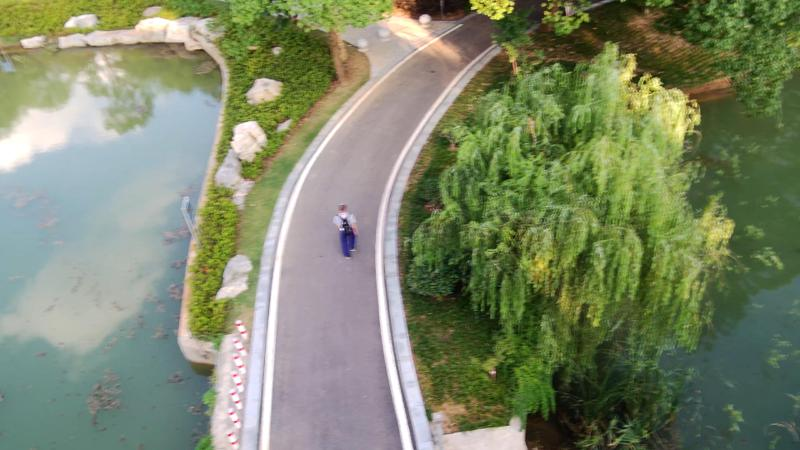passerby: (332, 201, 362, 261)
